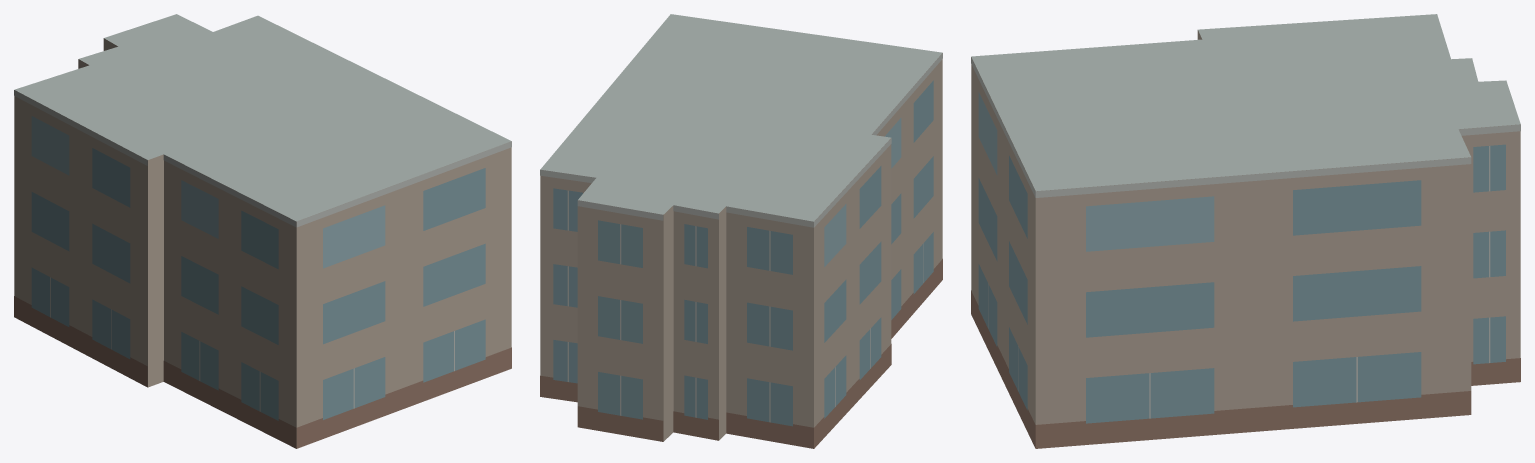
File: survey-upis-32713450.glb
3 views of the same model, side by side, from view 1: azimuth 30°, elevation 25°; view 2: azimuth 150°, elevation 25°; view 3: azimuth 270°, elevation 25° (orthographic). The views are drawn at different scales.
Visible parts, largest first — view 1: survey-upis-32713450.tmp; view 2: survey-upis-32713450.tmp; view 3: survey-upis-32713450.tmp.
Boxes of the visible parts, x1,y1,x2,y2 form: survey-upis-32713450.tmp: (14,14,511,448); survey-upis-32713450.tmp: (540,14,942,448); survey-upis-32713450.tmp: (971,14,1520,448).
Bounding box in the file's own units: 13.51 × 9.15 × 17.7.
